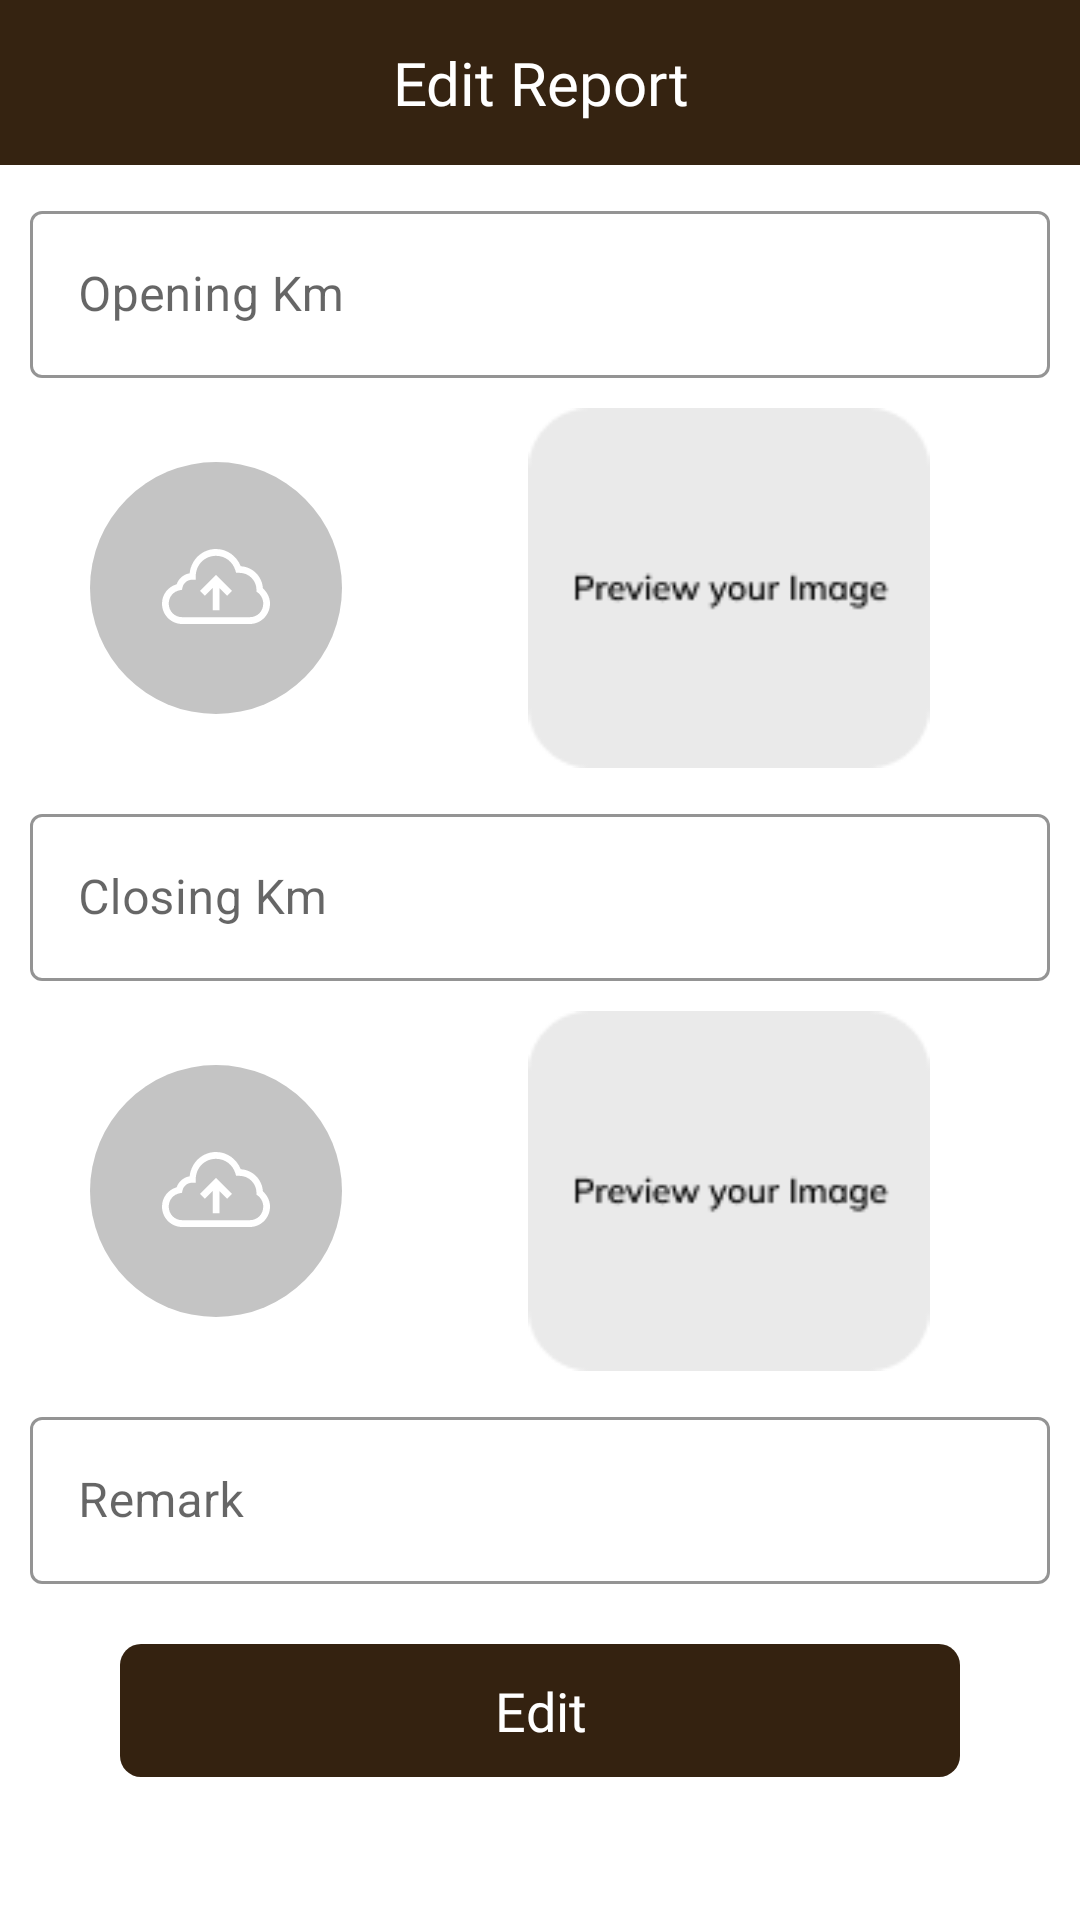

Icons on this 1080x1920 Android screen, each with its box as {"left": x1, "top": y1, "right": x2, "bottom": y2}:
upload: {"left": 90, "top": 462, "right": 342, "bottom": 714}, {"left": 90, "top": 1065, "right": 342, "bottom": 1317}
